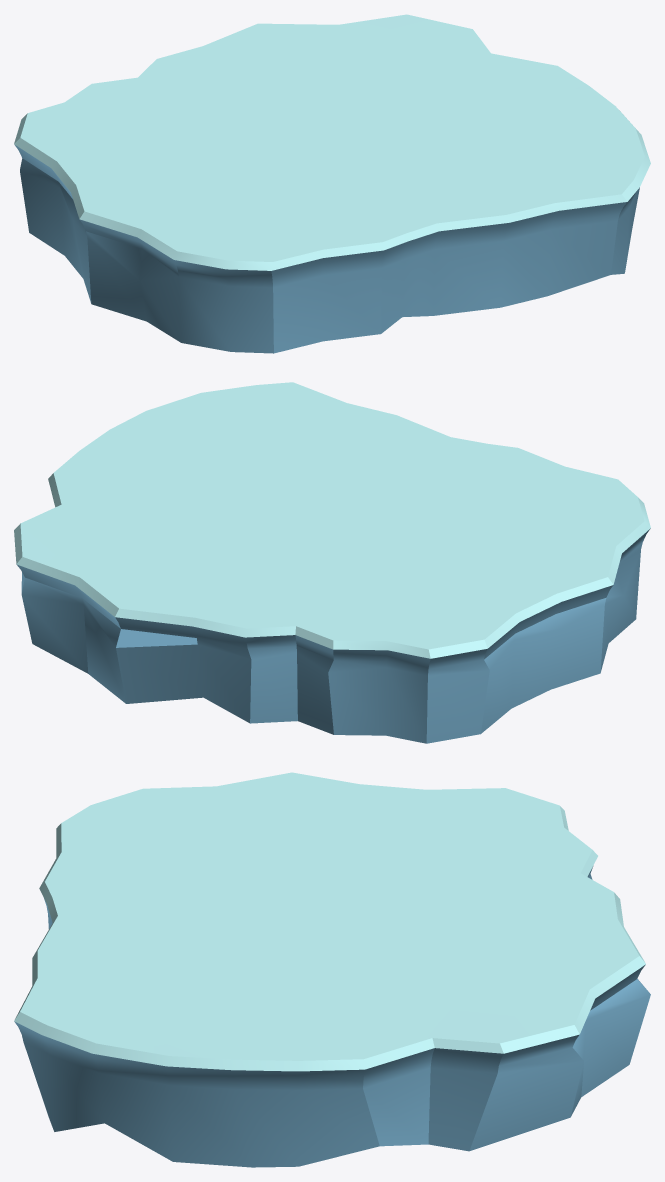
The model's file is iceberg1.fbx.
The picture shows the model from 3 angles, top to bottom: view 1: azimuth 30°, elevation 25°; view 2: azimuth 150°, elevation 25°; view 3: azimuth 270°, elevation 25°; orthographic projection. The views are drawn at different scales.
Parts seen in each view (by area): view 1: icebergone; view 2: icebergone; view 3: icebergone.
Boxes of the visible parts, x1,y1,x2,y2 form: icebergone: (14, 14, 650, 353); icebergone: (14, 382, 650, 743); icebergone: (14, 772, 650, 1167).
Size of the model in its own units: 1903 by 343 by 1741.
